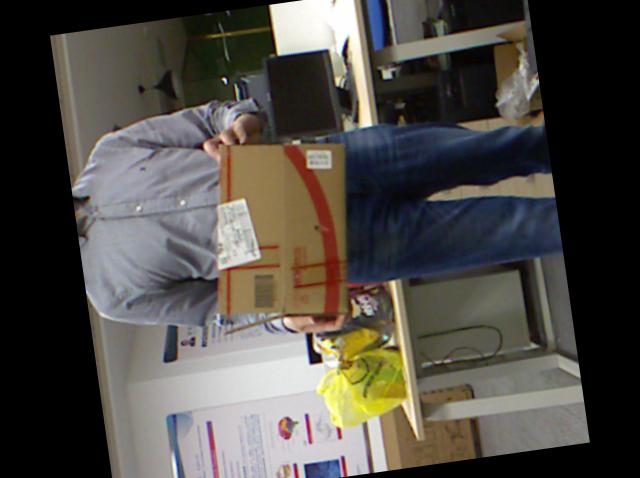cardboard paper: (218, 142, 349, 315), (382, 410, 481, 471)
